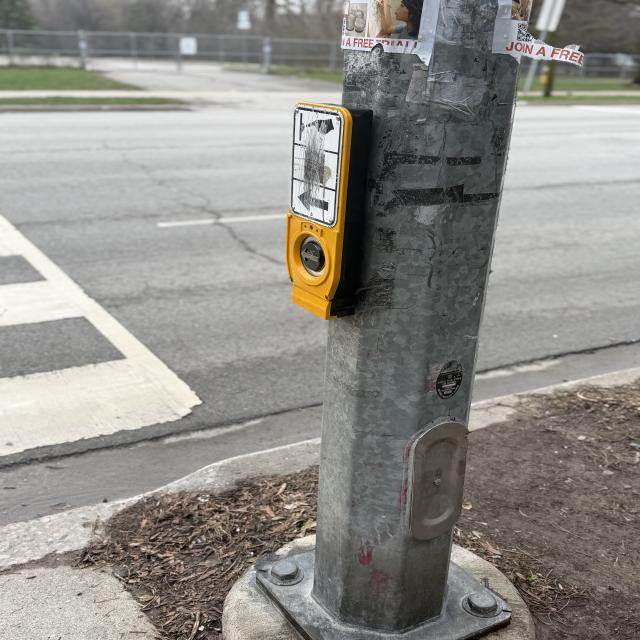Electrical Pole: (253, 69, 524, 640)
